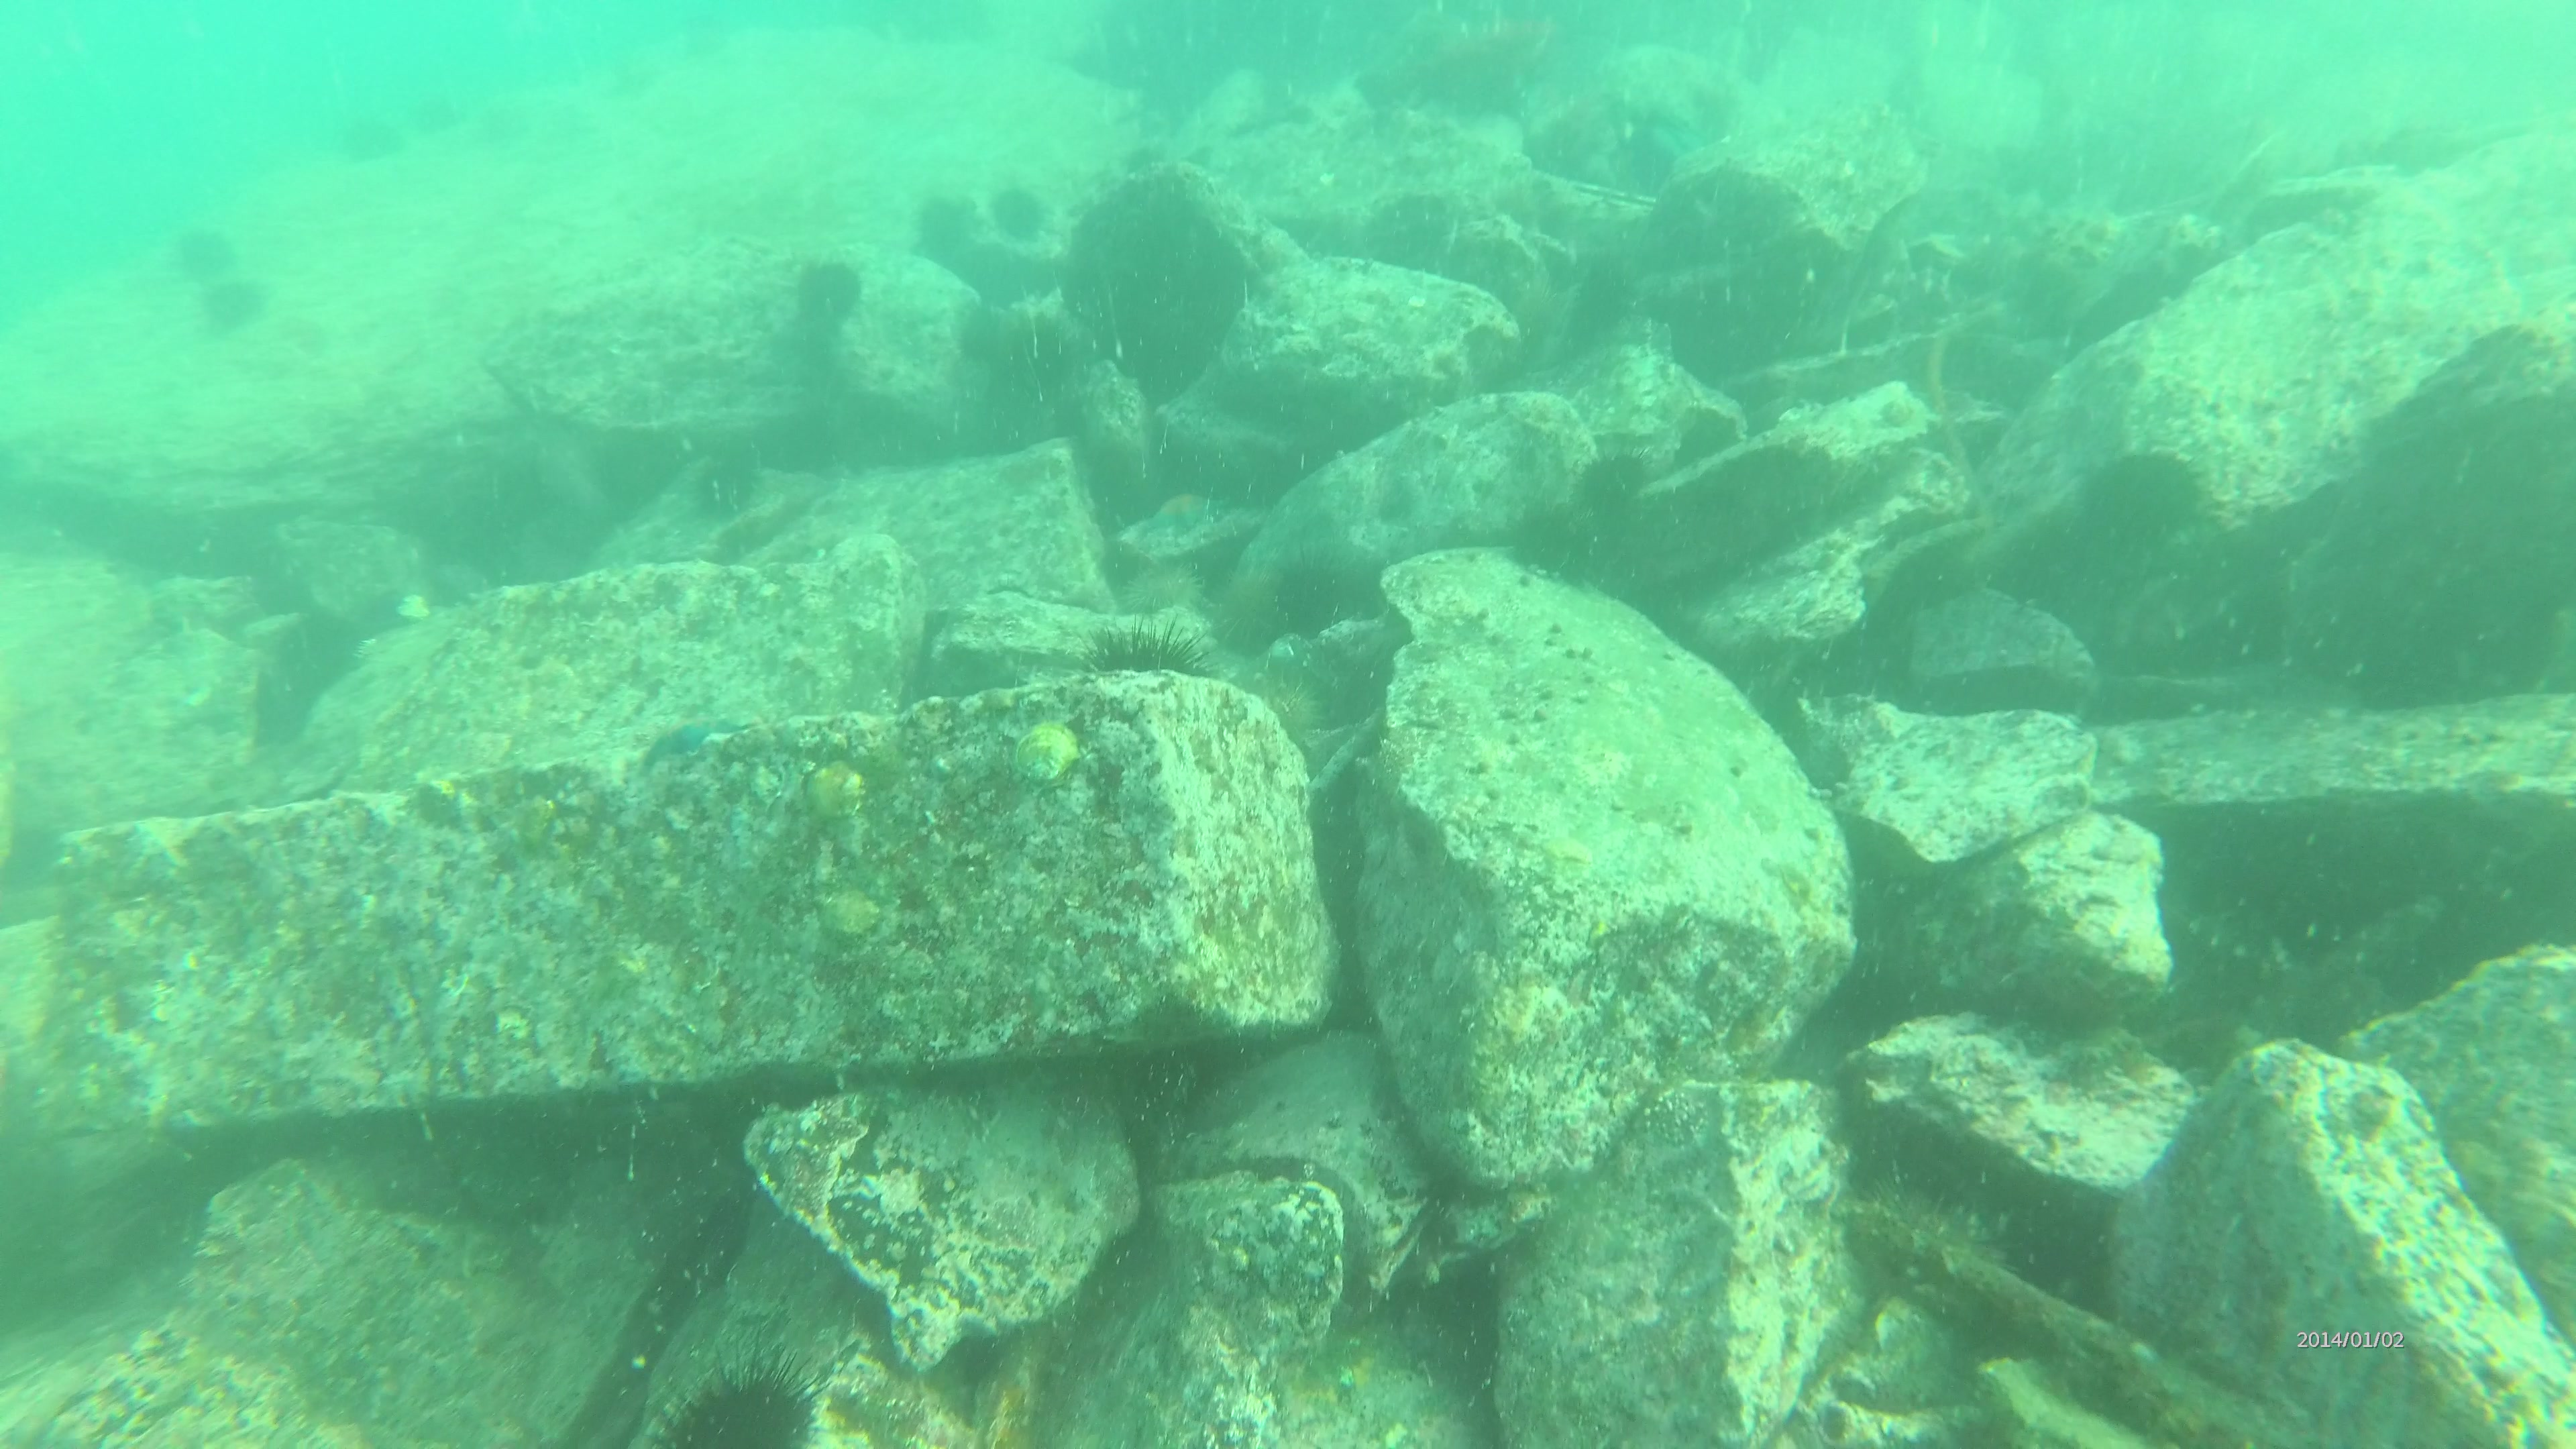echinus: (626, 1332, 828, 1449), (1067, 607, 1226, 697), (690, 439, 770, 531), (950, 292, 1039, 373), (796, 255, 872, 343), (184, 272, 272, 338), (906, 186, 980, 258), (989, 177, 1056, 249), (333, 106, 402, 175), (602, 46, 662, 115), (166, 223, 239, 278), (471, 94, 525, 163), (405, 81, 462, 140), (681, 12, 736, 69)
scallop: (1005, 715, 1088, 786), (801, 755, 869, 830)
starfish: (630, 706, 755, 770)
